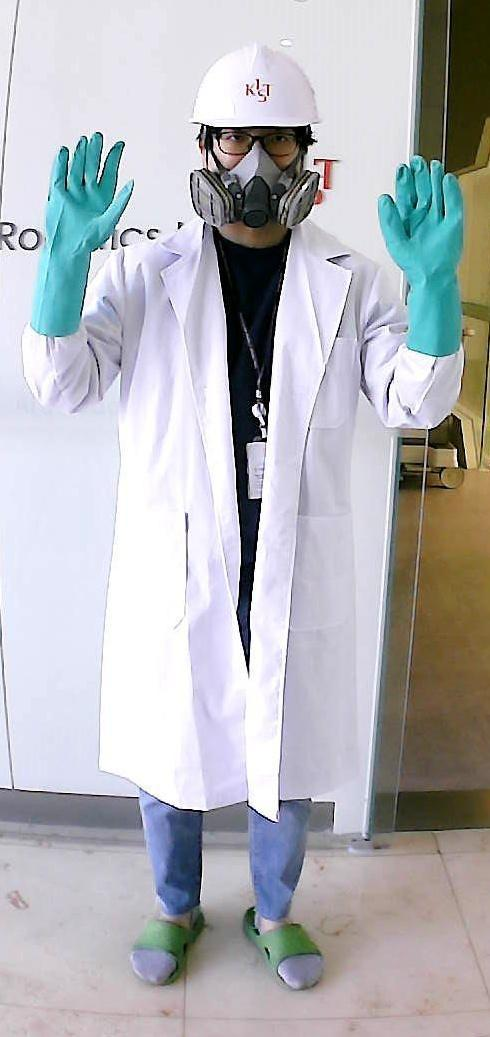lab_coat: (101, 258, 396, 776)
